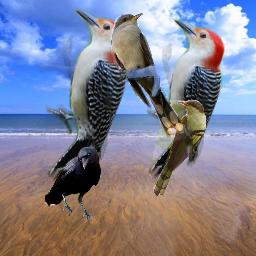Crow: (45, 147, 101, 223)
Cuckoo: (111, 13, 184, 135), (153, 100, 206, 197)
Woodpecker: (46, 8, 131, 189), (147, 18, 225, 185)
